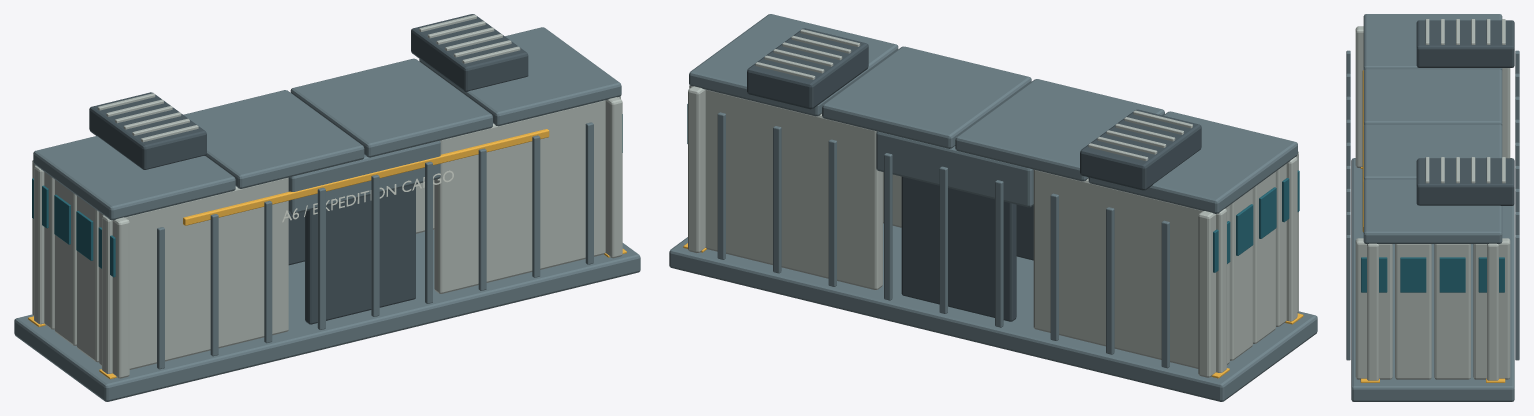
File: logistics_container_d0.glb
The picture shows the model from 3 angles, left to right: view 1: azimuth 30°, elevation 25°; view 2: azimuth 150°, elevation 25°; view 3: azimuth 270°, elevation 25°; orthographic projection. The views are drawn at different scales.
Visible parts, largest first — view 1: End bulkhead.070, End bulkhead.071, Foundation.028, Removable roof segment.052, Sealed airlock.020, Removable roof segment.051, Removable roof segment.050, Removable roof segment.053, Roof heat exchanger.026, Roof heat exchanger.025, Door header.030, Side pressure panel.115 (+19 smaller); view 2: End bulkhead.072, End bulkhead.073, Foundation.028, Removable roof segment.052, Sealed airlock.021, Removable roof segment.051, Removable roof segment.050, Removable roof segment.053, Door header.031, Roof heat exchanger.026, Roof heat exchanger.025, Side pressure panel.118 (+18 smaller); view 3: Removable roof segment.051, Foundation.028, Removable roof segment.053, Removable roof segment.052, Roof heat exchanger.025, Roof heat exchanger.026, Side pressure panel.120, Side pressure panel.121, Removable roof segment.050, Side pressure panel.119, Side pressure panel.122, End bulkhead.071 (+10 smaller).
Boxes of the visible parts, left/top/right/bottom form: End bulkhead.070: left=102, top=177, right=288, bottom=373; End bulkhead.071: left=434, top=96, right=620, bottom=293; Foundation.028: left=14, top=229, right=640, bottom=401; Removable roof segment.052: left=290, top=58, right=492, bottom=157; Sealed airlock.020: left=305, top=184, right=415, bottom=324; Removable roof segment.051: left=183, top=90, right=364, bottom=188; Removable roof segment.050: left=33, top=136, right=235, bottom=220; Removable roof segment.053: left=419, top=27, right=621, bottom=126; Roof heat exchanger.026: left=411, top=14, right=528, bottom=91; Roof heat exchanger.025: left=89, top=92, right=206, bottom=169; Door header.030: left=288, top=140, right=440, bottom=213; Side pressure panel.115: left=99, top=212, right=129, bottom=378; End bulkhead.072: left=1033, top=169, right=1226, bottom=372; End bulkhead.073: left=689, top=85, right=882, bottom=290; Foundation.028: left=669, top=223, right=1317, bottom=401; Removable roof segment.052: left=822, top=46, right=1031, bottom=148; Sealed airlock.021: left=901, top=176, right=1016, bottom=321; Removable roof segment.051: left=955, top=79, right=1164, bottom=181; Removable roof segment.050: left=1088, top=111, right=1297, bottom=213; Removable roof segment.053: left=689, top=14, right=898, bottom=116; Door header.031: left=876, top=131, right=1033, bottom=207; Roof heat exchanger.026: left=747, top=28, right=868, bottom=109; Roof heat exchanger.025: left=1080, top=109, right=1201, bottom=190; Side pressure panel.118: left=1198, top=205, right=1229, bottom=377; Removable roof segment.051: left=1363, top=69, right=1502, bottom=125; Foundation.028: left=1351, top=158, right=1514, bottom=401; Removable roof segment.053: left=1363, top=179, right=1502, bottom=243; Removable roof segment.052: left=1363, top=124, right=1502, bottom=181; Roof heat exchanger.025: left=1416, top=20, right=1514, bottom=67; Roof heat exchanger.026: left=1416, top=158, right=1514, bottom=205; Side pressure panel.120: left=1395, top=244, right=1431, bottom=379; Side pressure panel.121: left=1434, top=244, right=1470, bottom=379; Removable roof segment.050: left=1363, top=14, right=1502, bottom=70; Side pressure panel.119: left=1355, top=238, right=1392, bottom=379; Side pressure panel.122: left=1473, top=238, right=1510, bottom=379; End bulkhead.071: left=1367, top=243, right=1378, bottom=380.
Size of the model in its own units: 10 by 3.81 by 3.18.
